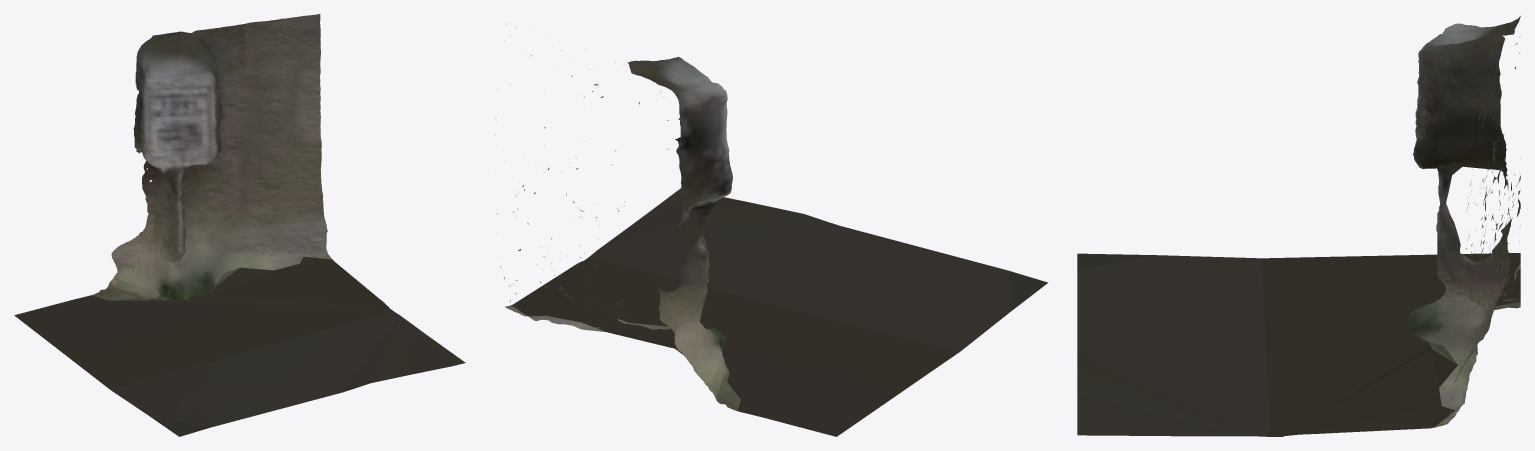
3 views of the same model, side by side, from view 1: azimuth 30°, elevation 25°; view 2: azimuth 150°, elevation 25°; view 3: azimuth 270°, elevation 25° (orthographic). The views are drawn at different scales.
Bounding box in the file's own units: 0.983 × 0.8195 × 0.983.
1 material, 1 textured.
